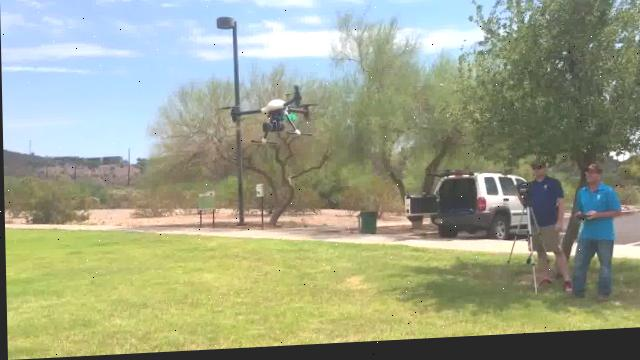drone: (227, 88, 316, 150)
